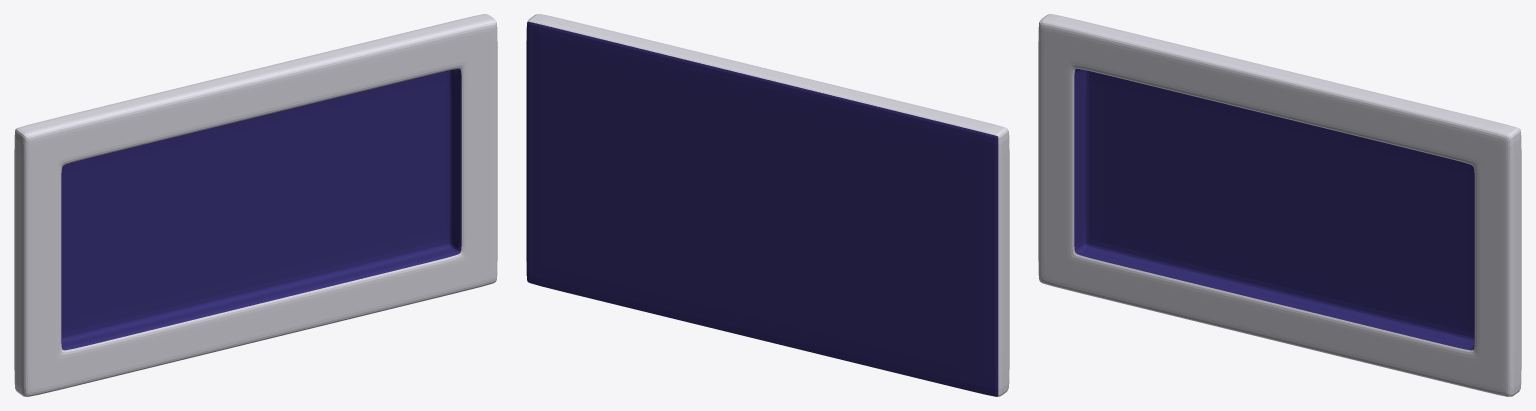
Rendered from painting.glb.
3 renders of one model, left to right at view 1: azimuth 30°, elevation 25°; view 2: azimuth 150°, elevation 25°; view 3: azimuth 330°, elevation 25°, orthographic.
Parts seen in each view (by area): view 1: painting; view 2: painting; view 3: painting.
Part boxes in pixels (<box>): painting: <box>14,14,497,396</box>; painting: <box>526,14,1009,396</box>; painting: <box>1038,14,1521,396</box>.
Bounding box in the file's own units: 1.5 × 0.8 × 0.07.
